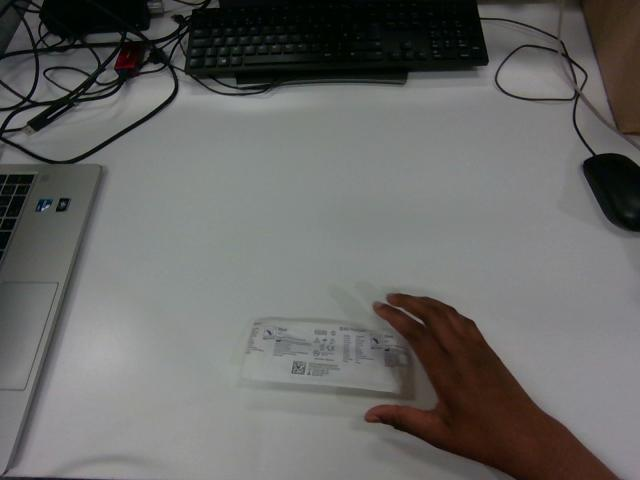syringe: (243, 319, 410, 393)
